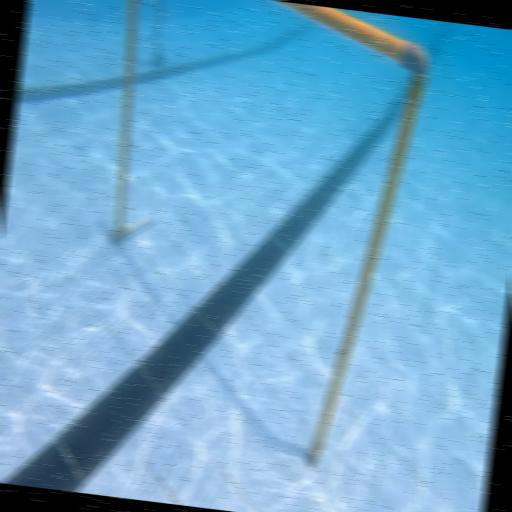gate: (72, 0, 434, 476)
